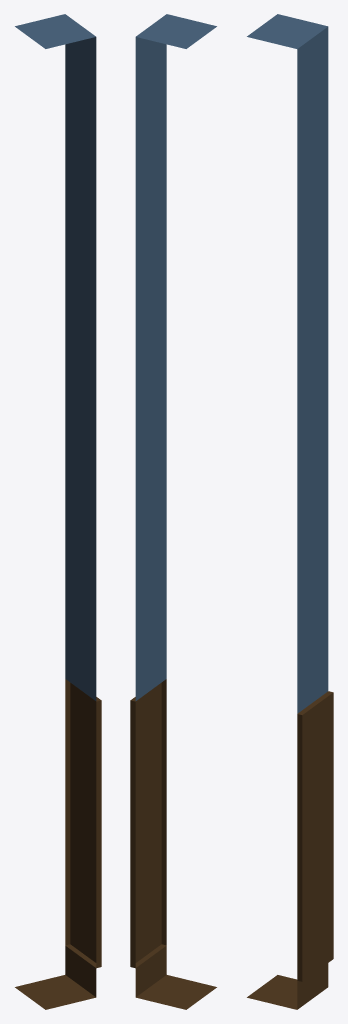
The model's file is Connector3x.fbx.
The picture shows the model from 3 angles, left to right: view 1: azimuth 30°, elevation 25°; view 2: azimuth 150°, elevation 25°; view 3: azimuth 330°, elevation 25°; orthographic projection.
Parts seen in each view (by area): view 1: pCube1; view 2: pCube1; view 3: pCube1.
Boxes of the visible parts, bbox=[...] form: pCube1: bbox=[15, 14, 101, 1009]; pCube1: bbox=[130, 14, 216, 1009]; pCube1: bbox=[247, 14, 333, 1009].
Bounding box in the file's own units: 1.03 × 17 × 1.
